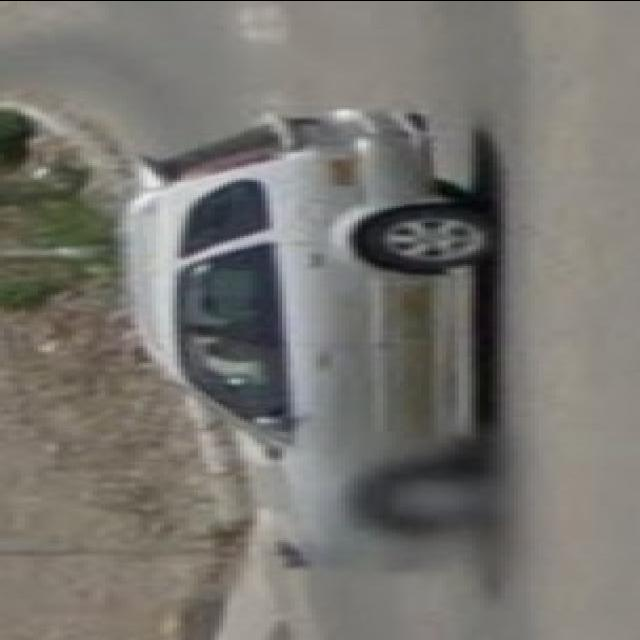car: (170, 101, 498, 561)
